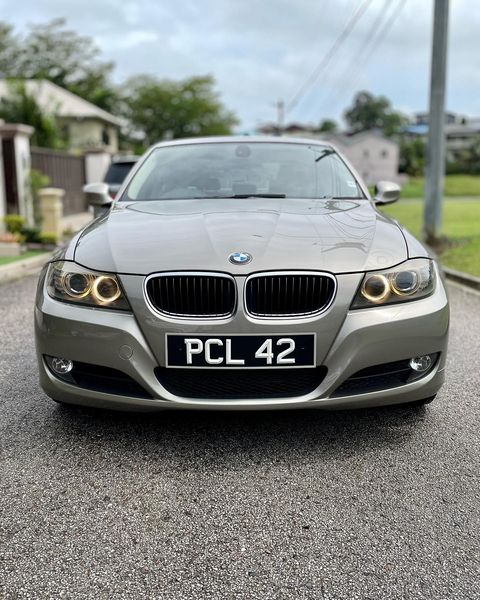License-Plate: (166, 333, 314, 365)
